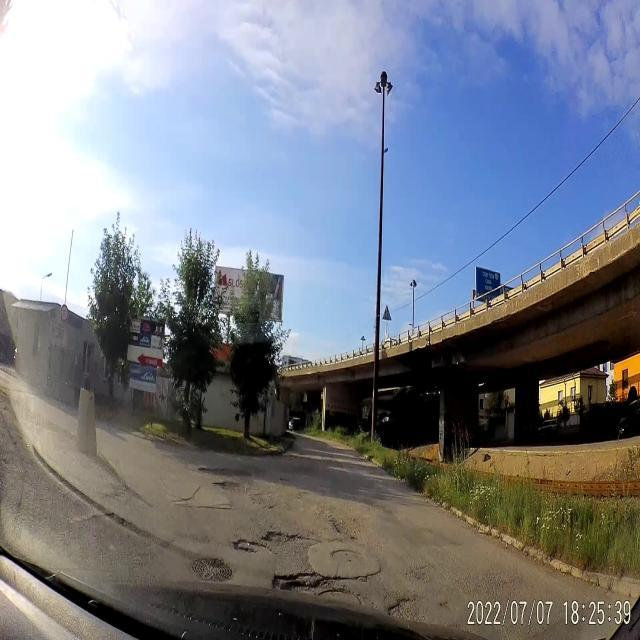Manhole: (192, 548, 234, 582), (329, 544, 366, 566)
Pothole: (233, 528, 304, 552), (382, 584, 420, 623), (270, 572, 322, 594), (198, 462, 248, 478), (214, 478, 242, 496), (329, 516, 346, 538), (278, 473, 288, 484)
